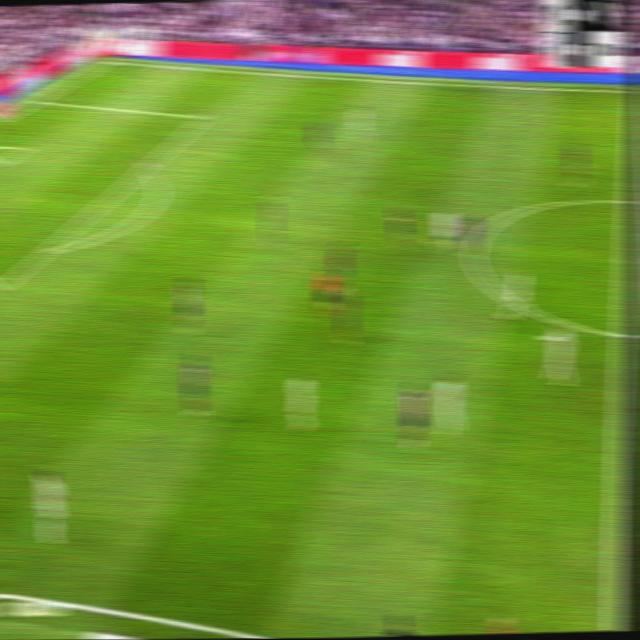bigarea_top_inner: (197, 108, 212, 124)
bottom_arc_area_intersection: (38, 240, 57, 259)
corner: (99, 53, 116, 65)
halfcircle_bottom: (612, 320, 632, 348)
halfcircle_top: (618, 188, 638, 211)
midline_top_intersection: (626, 83, 638, 97)
smallarea_top_inner: (18, 143, 31, 153)
top_arc_area_intersection: (136, 159, 152, 175)
